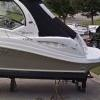Boat: (1, 2, 95, 86)
